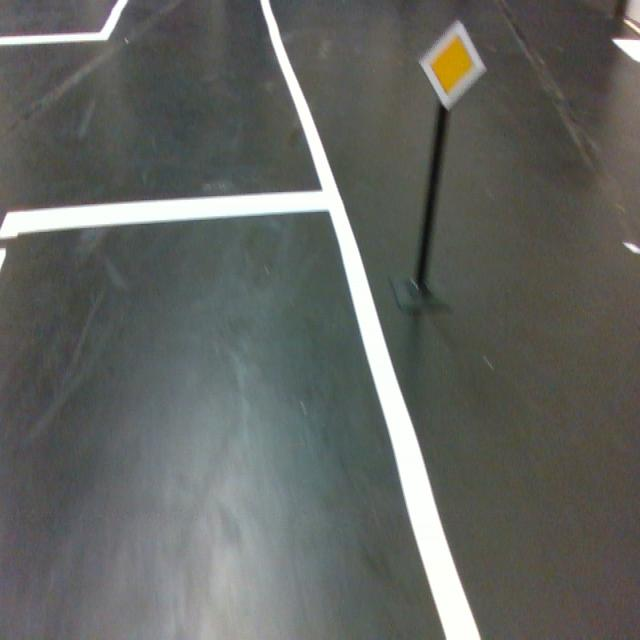priority-sign: (417, 18, 488, 113)
